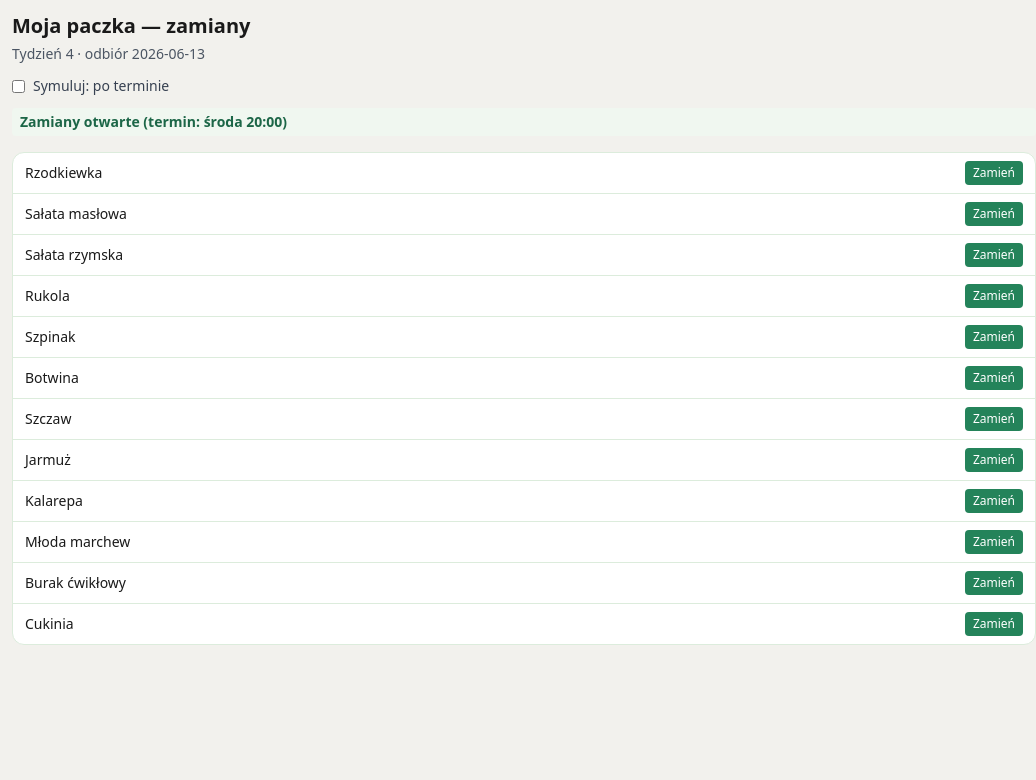
SwapPanel — moduł zamian (Wariant A) › po terminie zamiany zablokowane (brak przycisku Zamień)
Click the checkbox labelled "Symuluj: po terminie": {"x": 18, "y": 86} [12, 80, 25, 92]
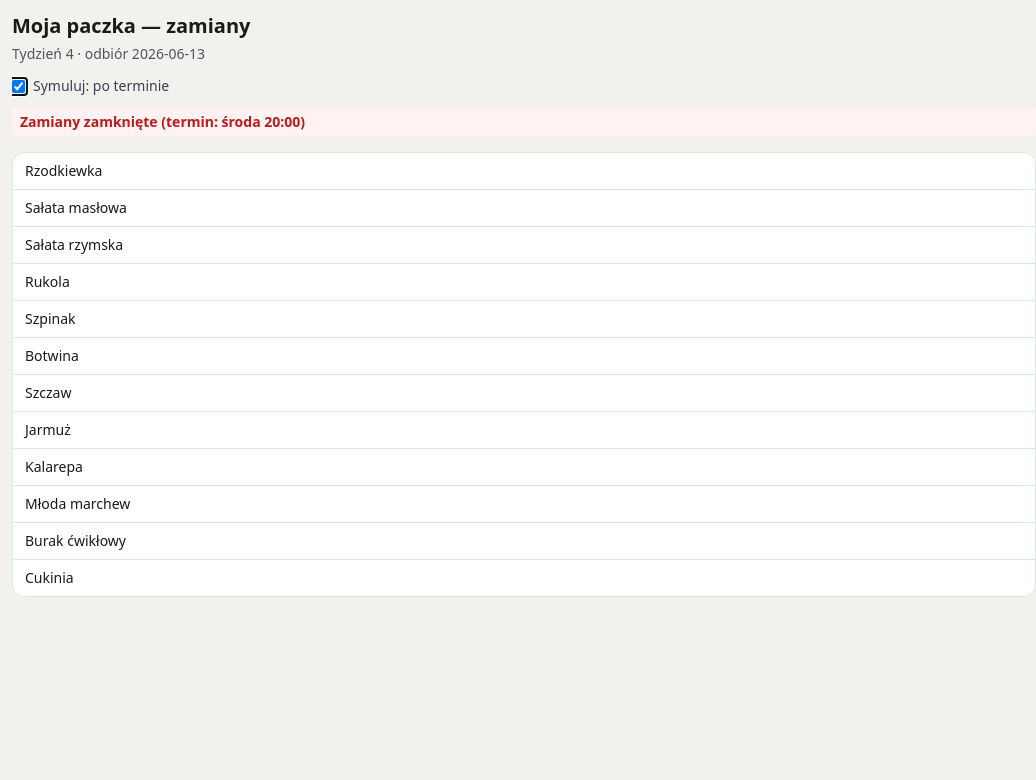
Result: the text "Zamiany zamknięte (termin: środa 20:00)" is shown at [12, 108, 1035, 136]
Result: the button "Zamień" is gone
